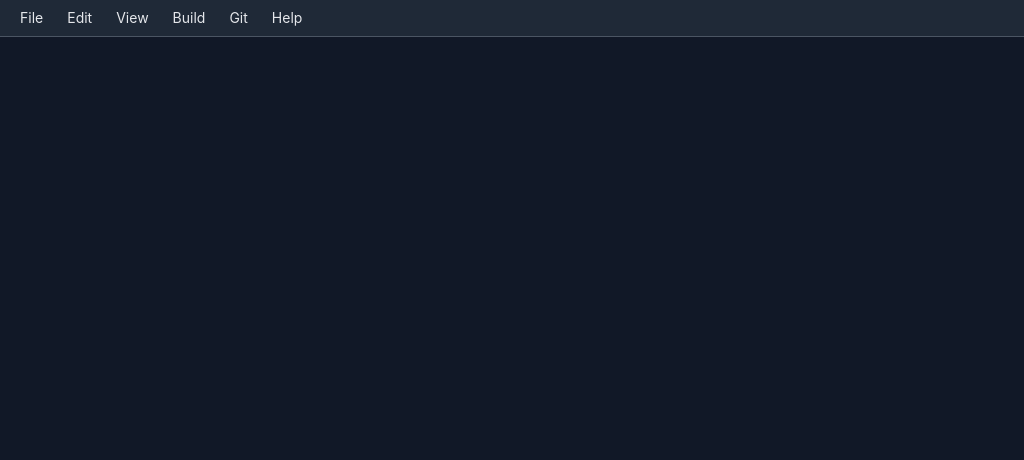
MenuBar › opens File dropdown when File menu is clicked
Step 1. Click the button with test id "menu-file" → (32,18), box [8,4,55,32]
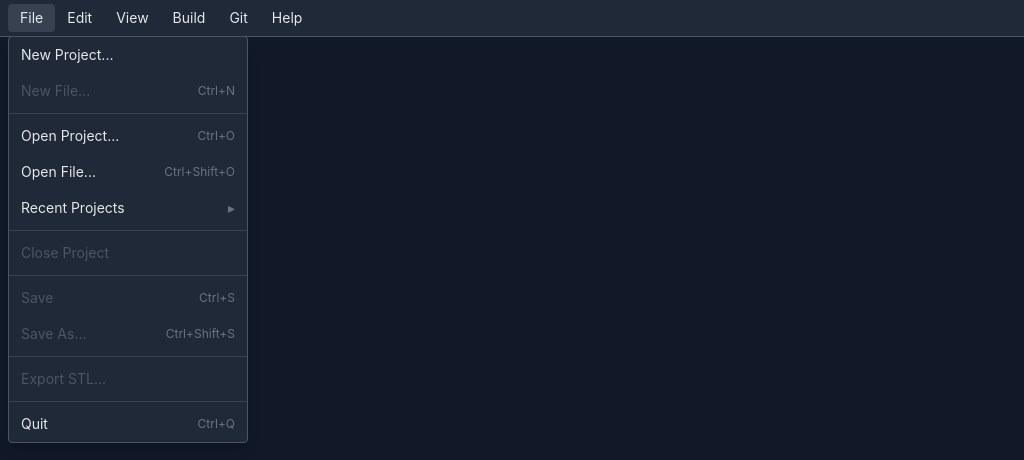
Result: the element with test id "menu-dropdown-file" is shown at [8,36,248,443]
